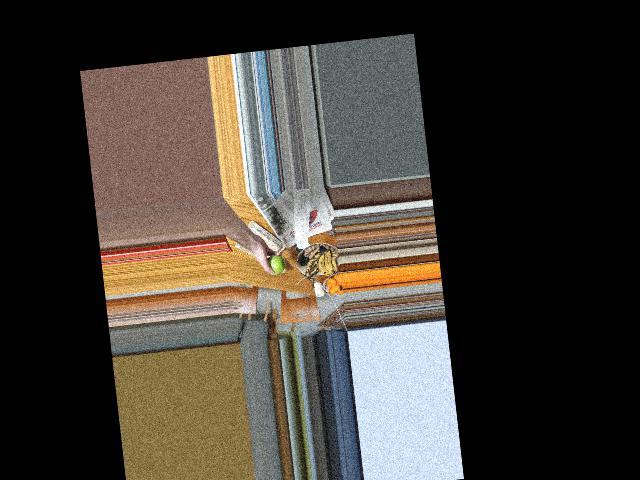apple: (263, 250, 286, 277)
